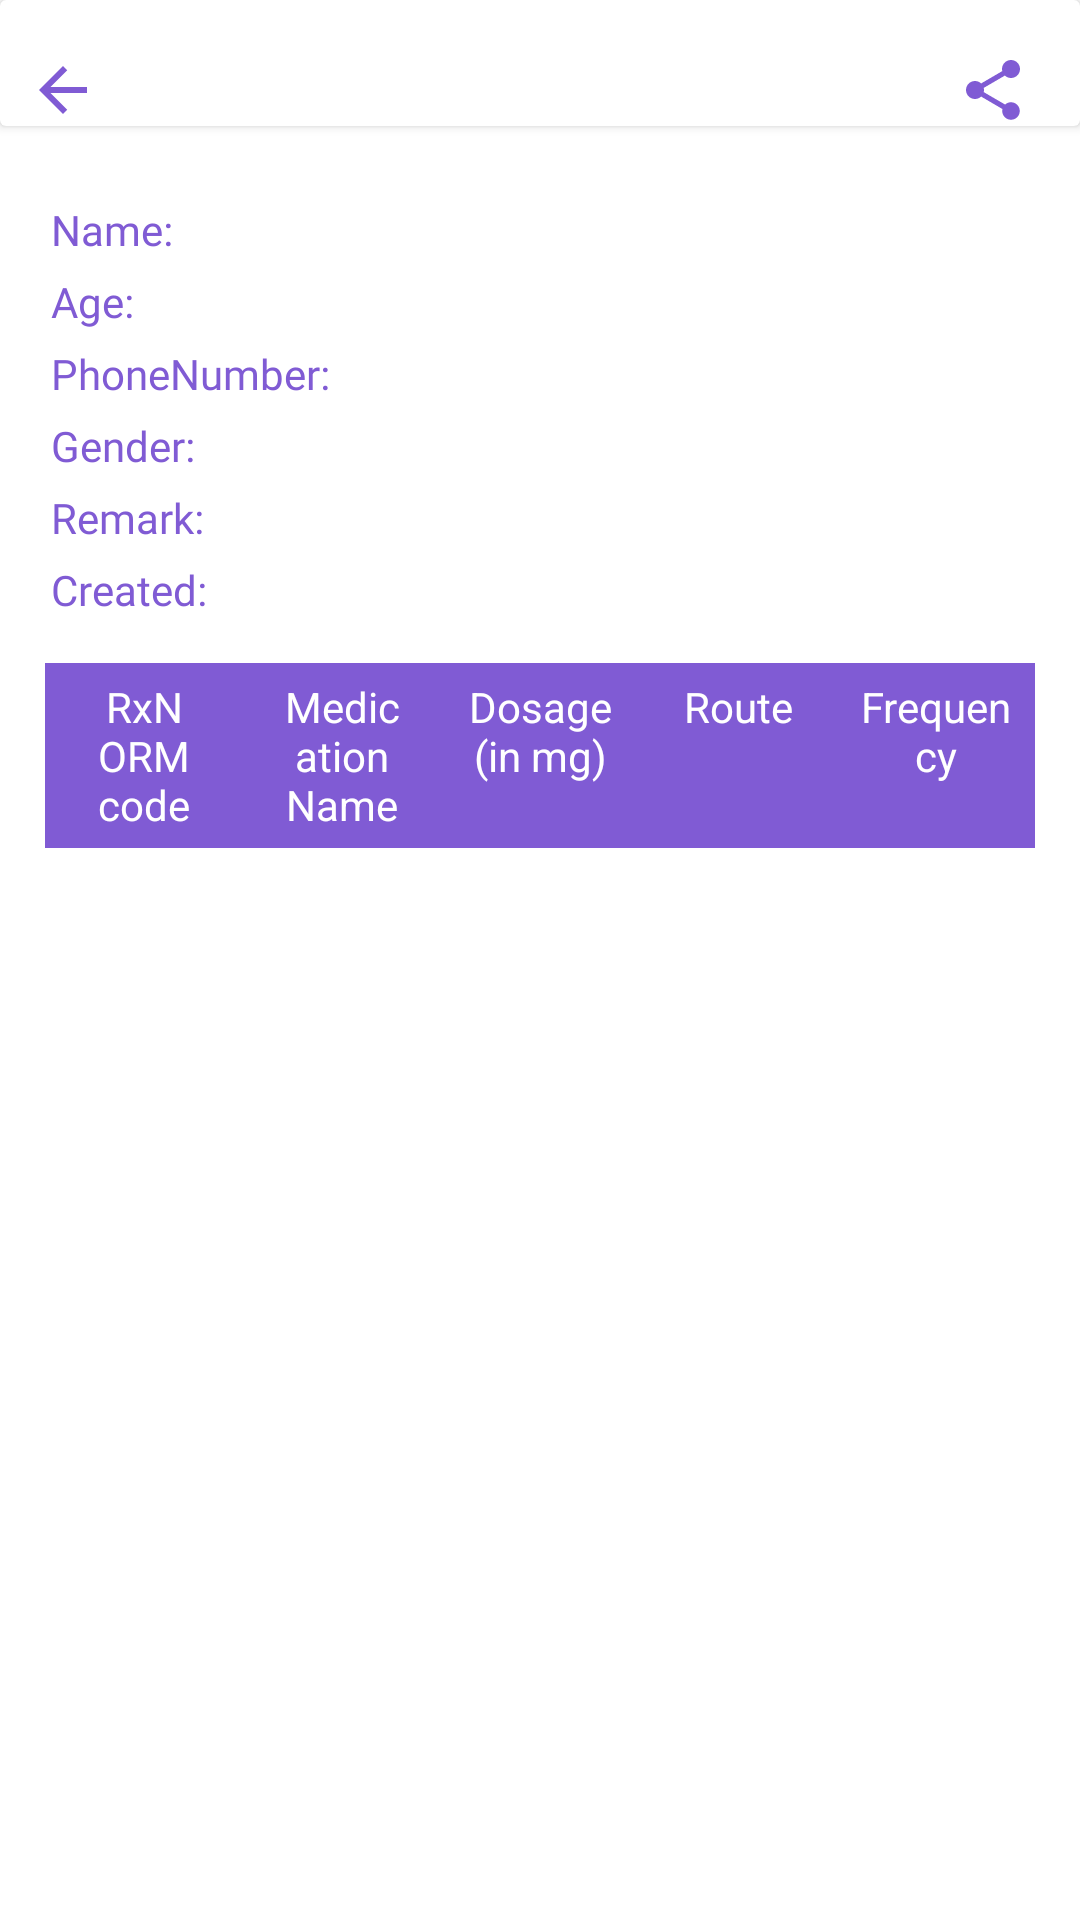

Icons on this 1080px x 1920px Android screen, each with its box as (x1, y1, x2, y2):
arrow back: (39, 66, 87, 114)
share: (966, 60, 1020, 120)
